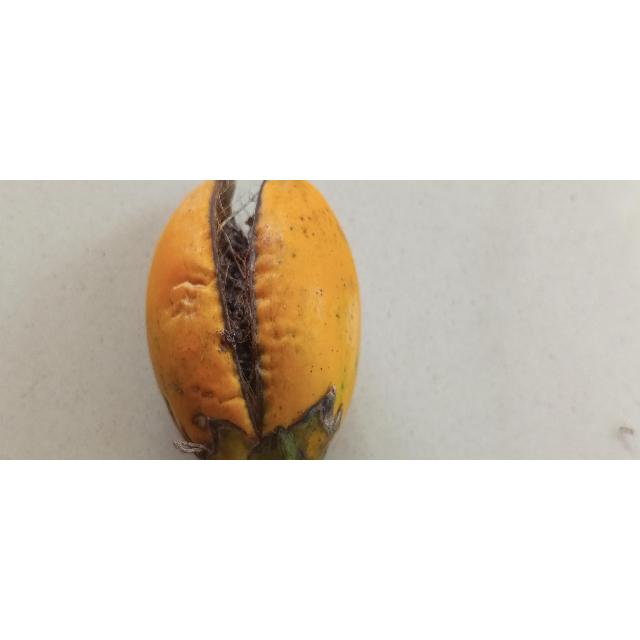damaged: (144, 180, 363, 461)
